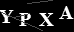A: (58, 6, 74, 20)
P: (17, 12, 32, 27)
X: (37, 12, 55, 27)
Y: (1, 8, 14, 23)
